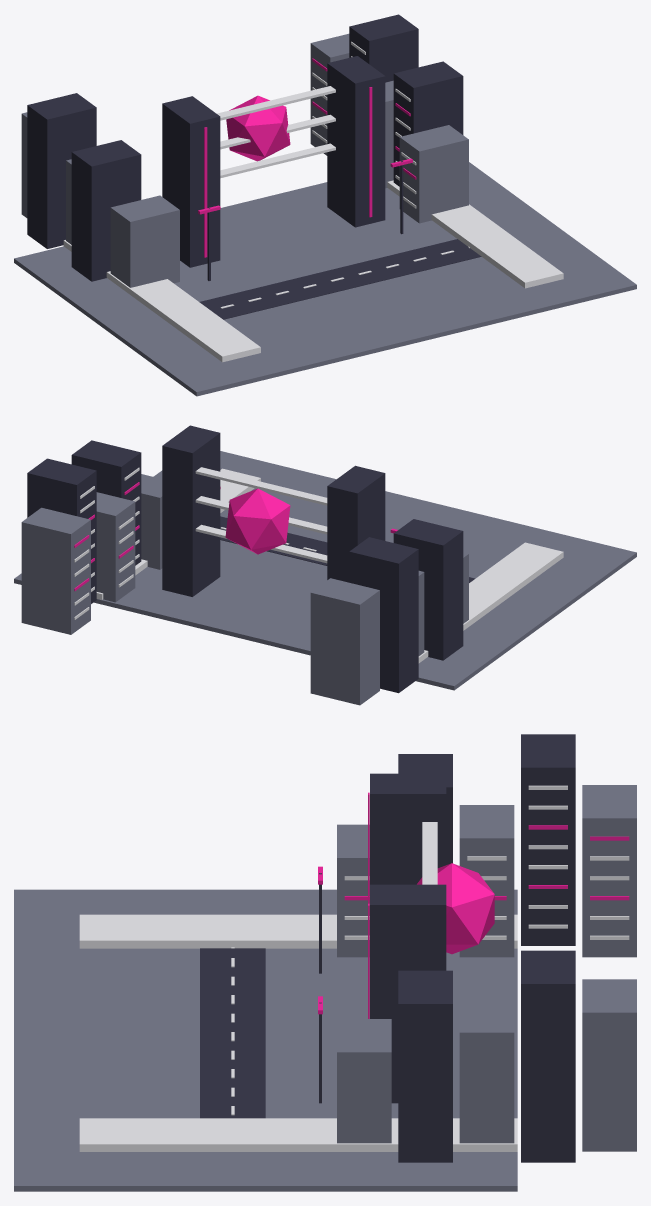
File: district_5.glb
3 views of the same model, one above another, from view 1: azimuth 30°, elevation 25°; view 2: azimuth 150°, elevation 25°; view 3: azimuth 270°, elevation 25° (orthographic). The views are drawn at different scales.
Visible parts, largest first — view 1: ArenaFloor, TowerSpire.001, TowerSpire, Building.003, Building.001, FightLane, Building, Building.005, Building.006, Sidewalk, Sidewalk.001, Building.008 (+7 smaller); view 2: ArenaFloor, TowerSpire.001, Building.004, Building.009, Building.003, Building.001, TowerSpire, Building.008, Building.007, Sidewalk, BackgroundTransmitter, Building.006 (+8 smaller); view 3: ArenaFloor, Building.008, FightLane, Building.006, Building.003, Sidewalk.001, Building.009, Sidewalk, TowerSpire.001, Building.004, Building.007, TowerSpire (+6 smaller).
Boxes of the visible parts, box(x1,y1,x2,y2) form: ArenaFloor: box(14, 162, 636, 396); TowerSpire.001: box(327, 56, 385, 227); TowerSpire: box(162, 96, 220, 267); Building.003: box(27, 93, 96, 248); Building.001: box(71, 140, 141, 281); FightLane: box(199, 239, 481, 319); Building: box(110, 195, 179, 287); Building.005: box(399, 125, 468, 223); Building.006: box(393, 61, 463, 186); Sidewalk: box(63, 240, 260, 362); Sidewalk.001: box(387, 180, 563, 288); Building.008: box(349, 14, 418, 82); ArenaFloor: box(14, 451, 636, 690); TowerSpire.001: box(162, 425, 220, 596); Building.004: box(310, 578, 379, 705); Building.009: box(21, 507, 90, 634); Building.003: box(349, 537, 418, 693); Building.001: box(393, 519, 463, 660); TowerSpire: box(327, 465, 385, 582); Building.008: box(27, 458, 96, 603); Building.007: box(96, 492, 135, 602); Sidewalk: box(418, 542, 563, 663); BackgroundTransmitter: box(225, 488, 290, 554); Building.006: box(71, 440, 141, 565); ArenaFloor: box(14, 889, 517, 1191); Building.008: box(521, 950, 575, 1162); FightLane: box(200, 948, 265, 1118); Building.006: box(398, 970, 452, 1162); Building.003: box(521, 734, 575, 945); Sidewalk.001: box(79, 1118, 517, 1151); Building.009: box(582, 979, 636, 1151); Sidewalk: box(79, 914, 517, 948); TowerSpire.001: box(370, 884, 446, 1103); Building.004: box(582, 785, 636, 957); Building.007: box(459, 999, 514, 1143); TowerSpire: box(370, 773, 446, 884).
Bounding box in the file's own units: 32 × 10.3 × 28.45.
